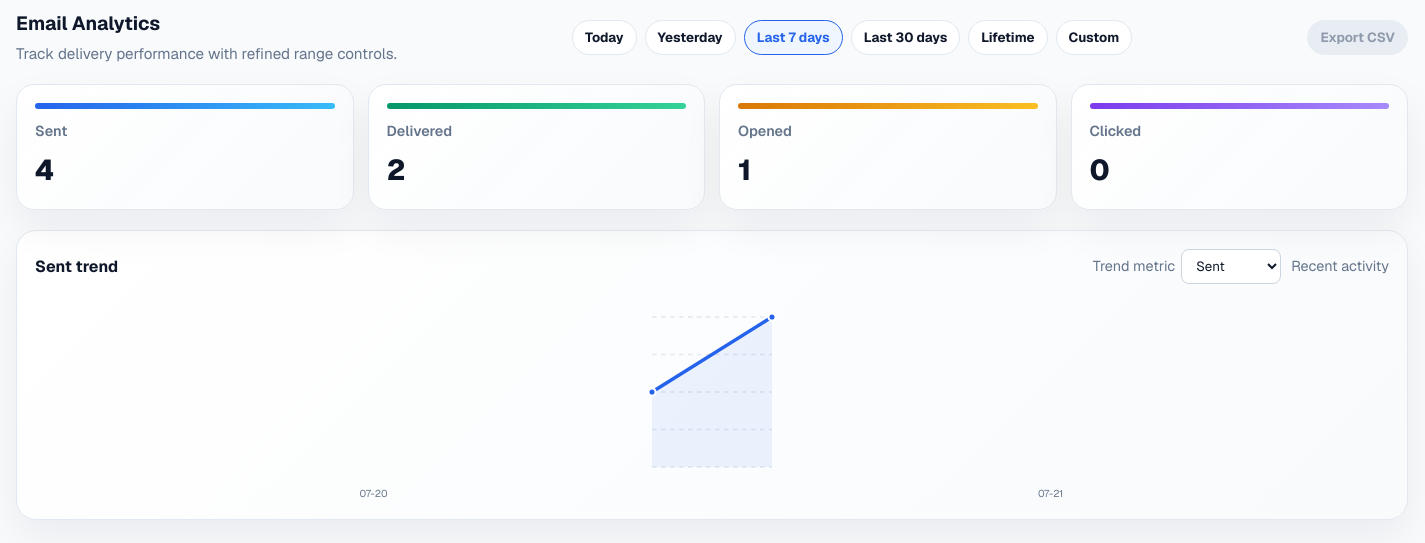
Scenario: AdminEmailAnalytics › shows a metric selector for the connected trend chart
Select "Delivered" in the dropdown labelled "Trend metric". click: [1231, 267]
box: [1181,249,1281,284]
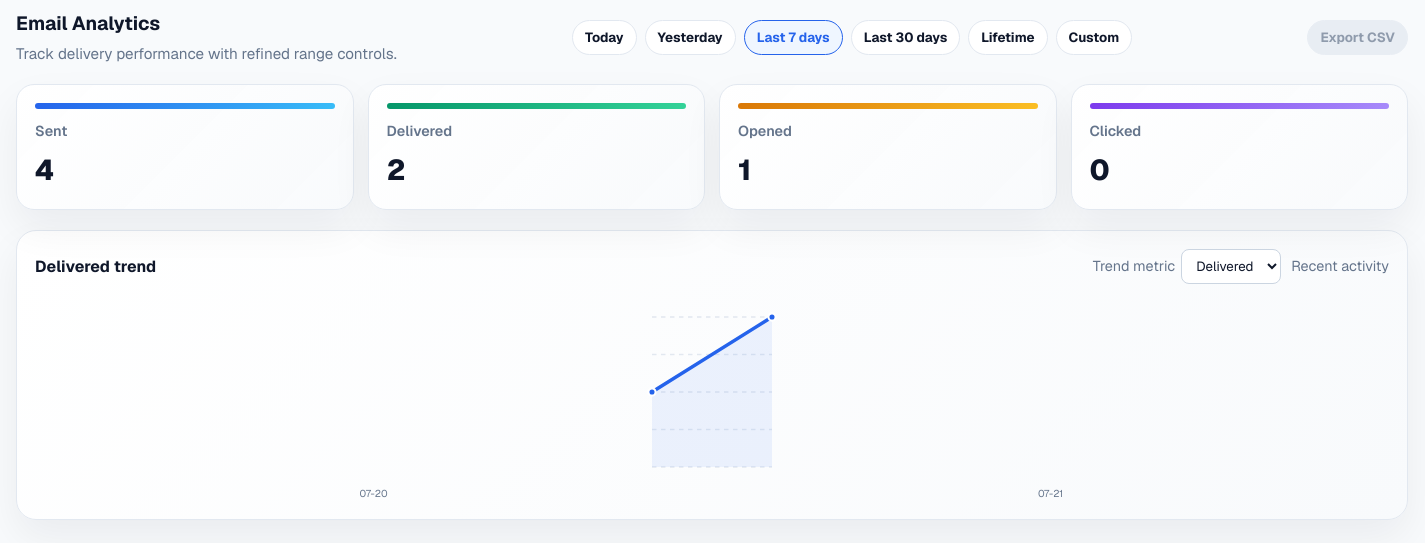
Result: the heading "Delivered trend" is shown at [35,255,156,279]
